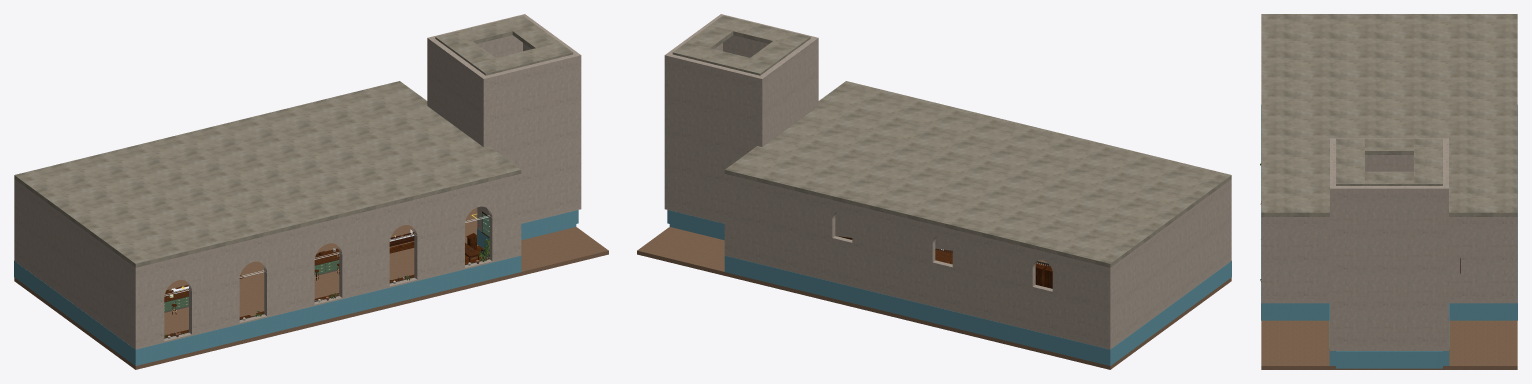
The model's file is physics_lab.glb.
3 views of the same model, side by side, from view 1: azimuth 30°, elevation 25°; view 2: azimuth 150°, elevation 25°; view 3: azimuth 270°, elevation 25° (orthographic). The views are drawn at different scales.
Visible parts, largest first — view 1: Static_Shell, Static_Furniture; view 2: Static_Shell; view 3: Static_Shell.
Part boxes in pixels (left/top/right/bottom): Static_Shell: left=14, top=14, right=608, bottom=369; Static_Furniture: left=164, top=232, right=489, bottom=337; Static_Shell: left=637, top=14, right=1231, bottom=369; Static_Shell: left=1261, top=14, right=1517, bottom=369.
Size of the model in its own units: 38.22 by 13.45 by 16.89.
Materials: 72 (68 with a texture image).
